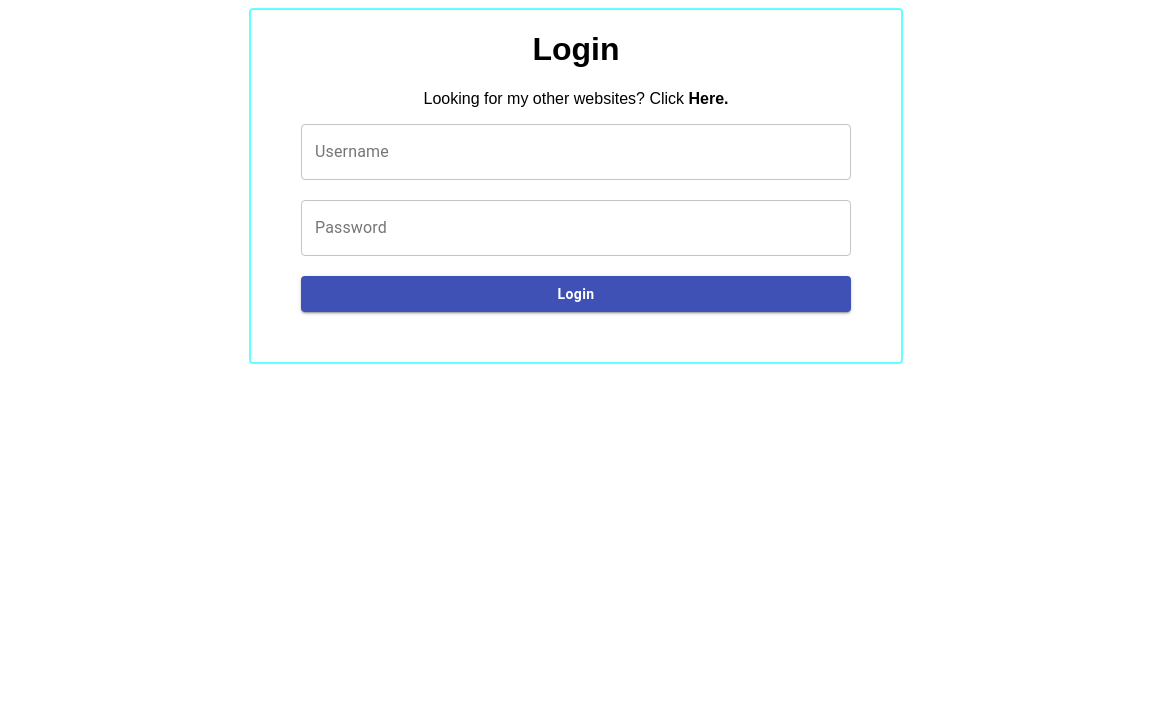
Test: logged-in-with-swimmer-role › opens the UserProfileDropdown if you click the down arrow icon, and the only option in it is Logout
Type "Swimmer" into the field labelled "Username" at (576, 152), box [301, 124, 851, 180]
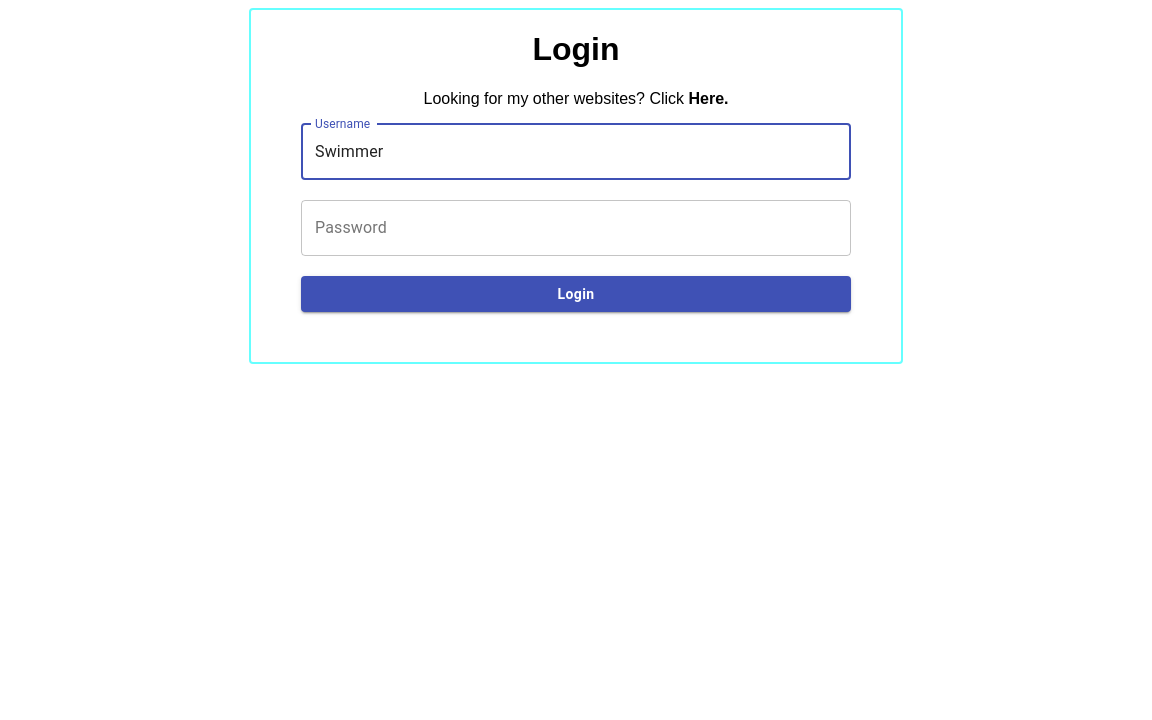
Type "1" into the field labelled "Password" at (576, 228), box [301, 200, 851, 256]
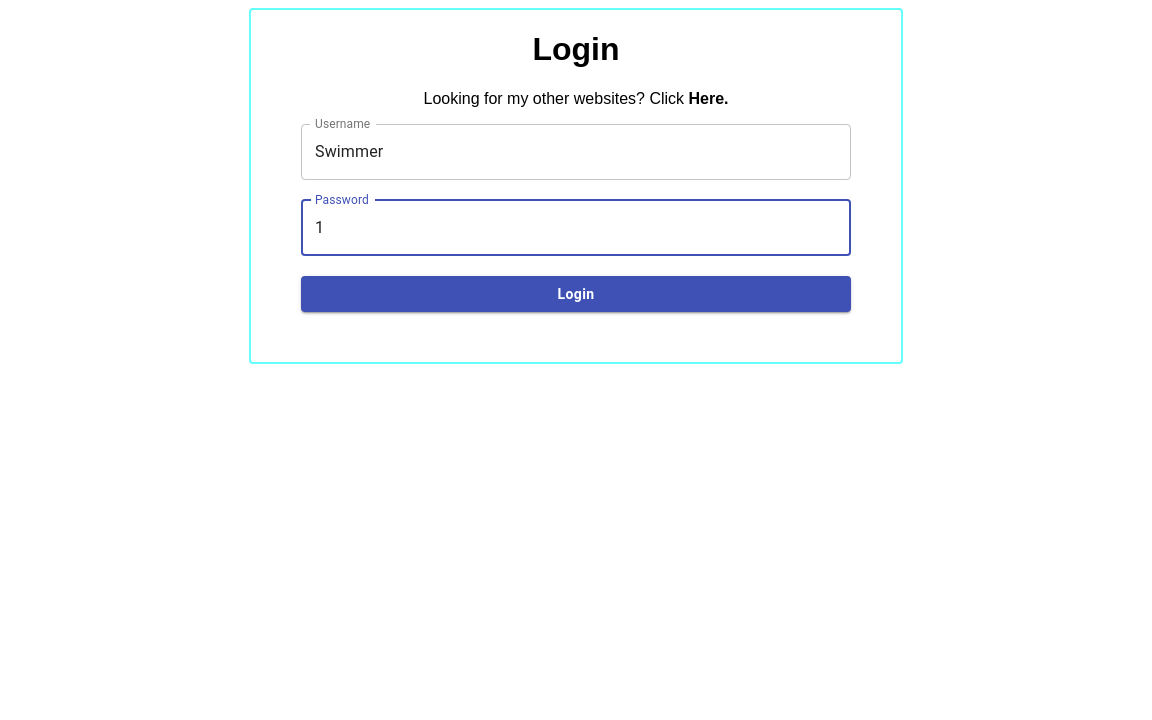
Click the button "Login" at (576, 295), box [301, 276, 851, 313]
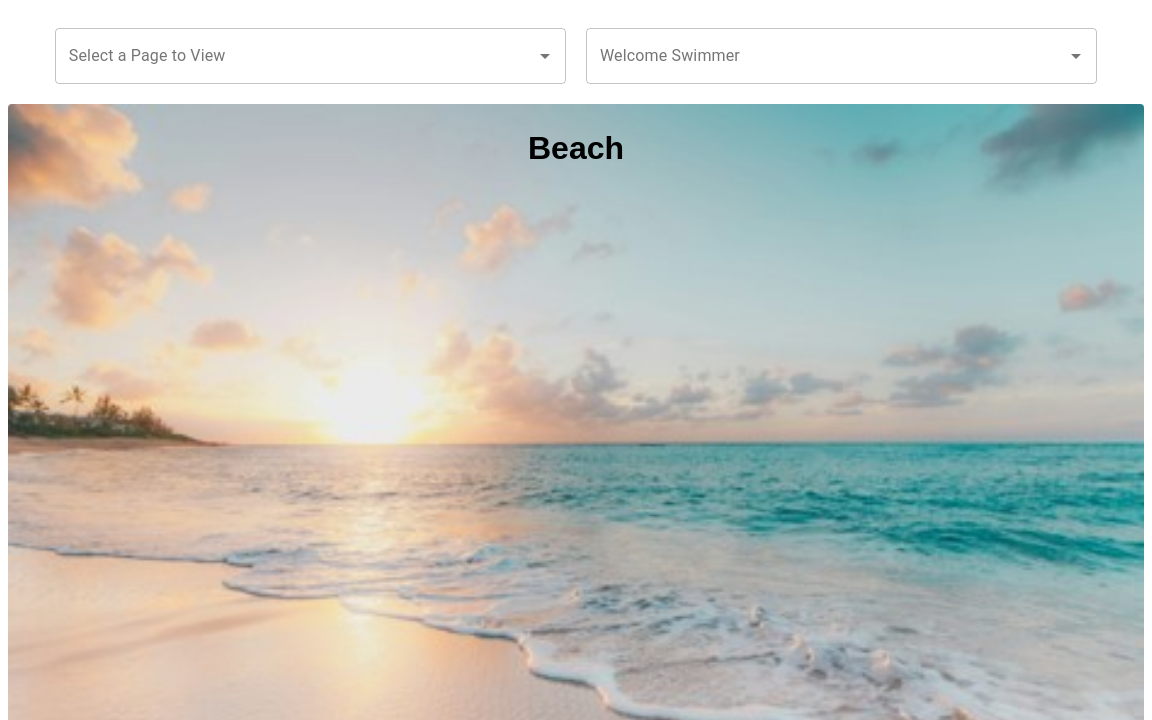
Click the button named "Open" in the row of "Welcome Swimmer" at (1076, 56), box [1062, 42, 1090, 70]
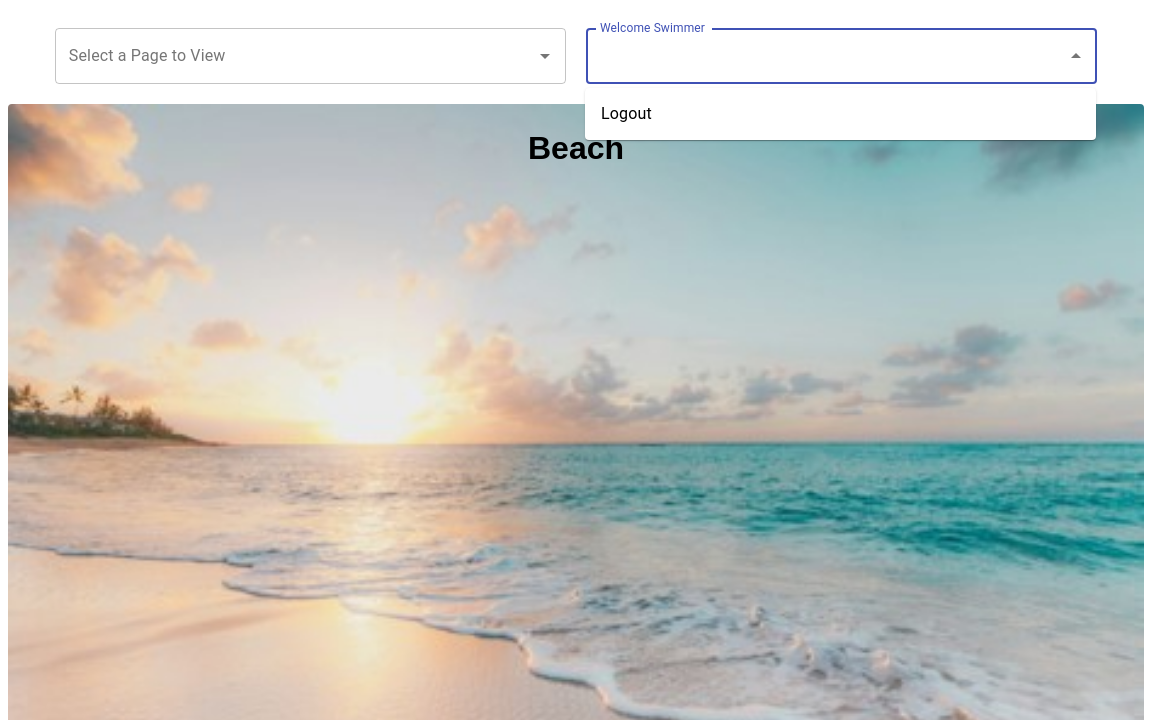
Result: the option "Logout" is shown at [601, 104, 652, 123]
